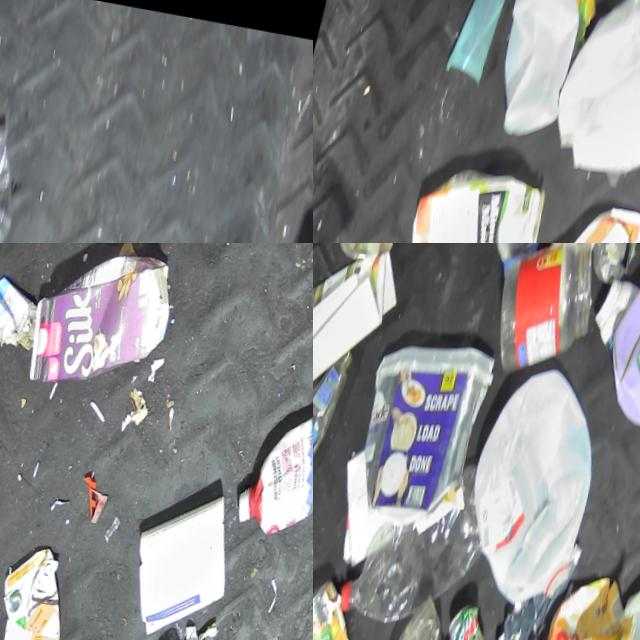can: (313, 571, 371, 640), (439, 598, 499, 640), (583, 243, 635, 286), (332, 243, 412, 265)
milk_jug: (450, 355, 619, 615), (541, 0, 640, 189), (481, 0, 588, 145)
non_white_jug: (23, 243, 185, 401), (391, 153, 560, 243), (237, 379, 313, 545), (0, 537, 92, 640), (594, 243, 640, 434)
plastic_bottle: (339, 446, 505, 636), (0, 105, 38, 243)
